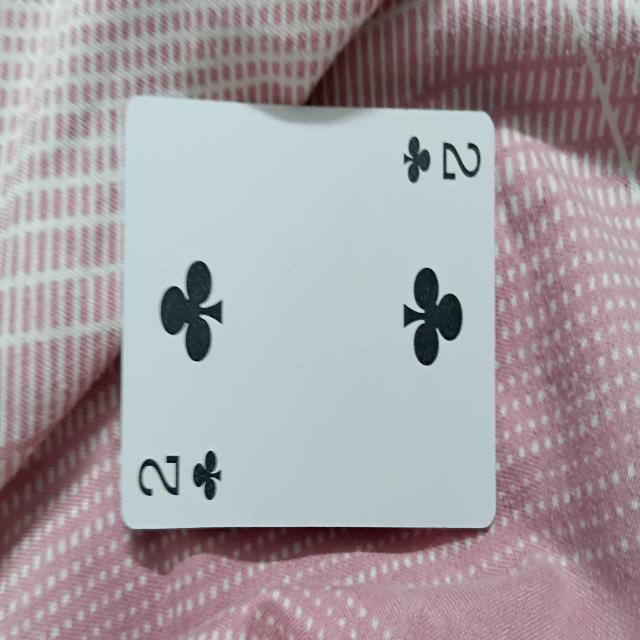2C: (121, 100, 495, 526)
